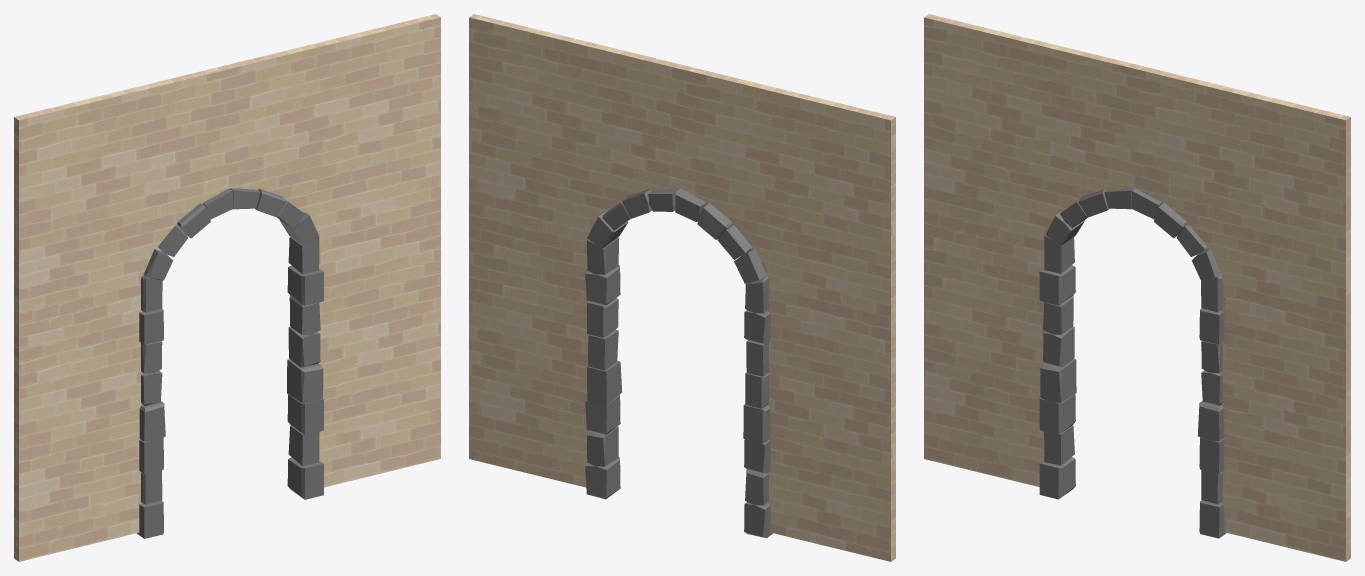
File: SM_wall_door_03.fbx
3 renders of one model, left to right at view 1: azimuth 30°, elevation 25°; view 2: azimuth 150°, elevation 25°; view 3: azimuth 330°, elevation 25°, orthographic.
Parts seen in each view (by area): view 1: Object33029; view 2: Object33029; view 3: Object33029.
Boxes of the visible parts, x1,y1,x2,y2 form: Object33029: (14,14,440,561); Object33029: (469,14,895,561); Object33029: (924,14,1350,561).
Size of the model in its own units: 170 by 171 by 11.89.
